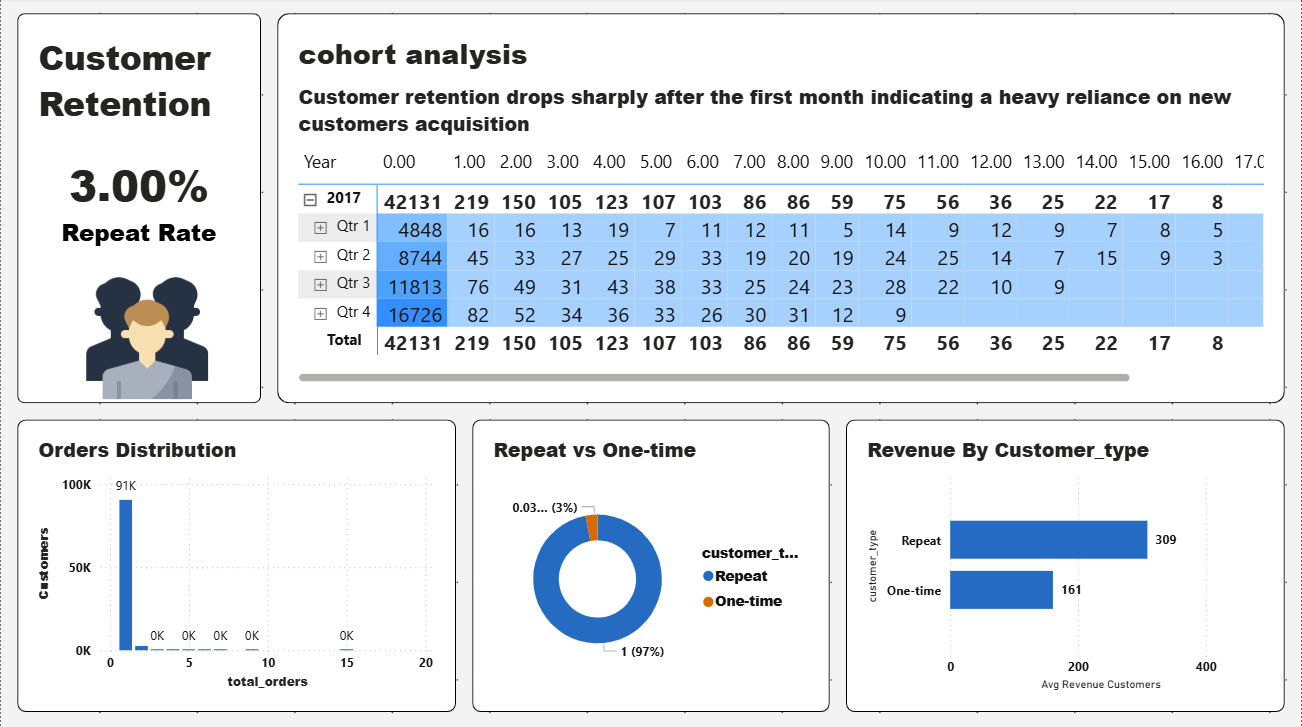

This screenshot's page, from the dashboard's own definition file:
{"tool":"powerbi","page":{"name":"Retention analysis","canvas":[1280,720],"ordinal":1},"visuals":[{"type":"shape","box":[16,16,240,384],"z":0},{"type":"shape","box":[272,16,992,384],"z":1000},{"type":"shape","box":[16,416,432,288],"z":2000},{"type":"shape","box":[464,416,352,288],"z":3000},{"type":"shape","box":[832,416,432,288],"z":4000},{"type":"pivotTable","fields":{"Rows":["Query3.cohort_month.Variation.Date Hierarchy.Year","Query3.cohort_month.Variation.Date Hierarchy.Quarter","Query3.cohort_month.Variation.Date Hierarchy.Month","Query3.cohort_month.Variation.Date Hierarchy.Day"],"Columns":["Query3.month_number"],"Values":["Sum(Query3.customers)"]},"box":[288,144,960,240],"z":5000},{"type":"columnChart","title":"Orders Distribution","fields":{"Y":["Sum(Query6.customers)"],"Category":["Query6.total_orders"]},"box":[32,432,400,256],"z":6000},{"type":"donutChart","title":"Repeat vs One-time","fields":{"Category":["Query2.customer_type"],"Y":["Query2.Repeat Rate"]},"box":[480,432,320,256],"z":7000},{"type":"card","fields":{"Values":["Query2.Repeat Rate"]},"box":[32,144,208,112],"z":8000},{"type":"barChart","title":"Revenue By Customer_type","fields":{"Category":["Query2.customer_type"],"Y":["Query2.Avg Revenue Customers"]},"box":[848,432,400,256],"z":9000},{"type":"textbox","box":[32,32,208,112],"z":10000},{"type":"textbox","box":[288,32,288,48],"z":11000},{"type":"image","box":[32,272,224,128],"z":12000},{"type":"textbox","box":[288,80,960,64],"z":13000}]}

Visuals, with their boxes in screenshot pixels (x1, y1, x2, y2), scaled from the page's 1280x720 canvas onto the 1302x727 screenshot:
shape: region(16, 16, 260, 404)
shape: region(277, 16, 1286, 404)
shape: region(16, 420, 456, 711)
shape: region(472, 420, 830, 711)
shape: region(846, 420, 1286, 711)
pivotTable - Query3.cohort_month.Variation.Date Hierarchy.Year x Query3.cohort_month.Variation.Date Hierarchy.Quarter: region(293, 145, 1269, 388)
"Orders Distribution" columnChart: region(33, 436, 439, 695)
"Repeat vs One-time" donutChart: region(488, 436, 814, 695)
card - Query2.Repeat Rate: region(33, 145, 244, 258)
"Revenue By Customer_type" barChart: region(863, 436, 1269, 695)
textbox: region(33, 32, 244, 145)
textbox: region(293, 32, 586, 81)
image: region(33, 275, 260, 404)
textbox: region(293, 81, 1269, 145)
